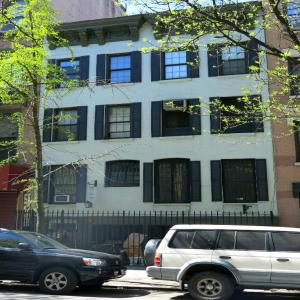Vehicle-registration-plate: (121, 270, 126, 276)
